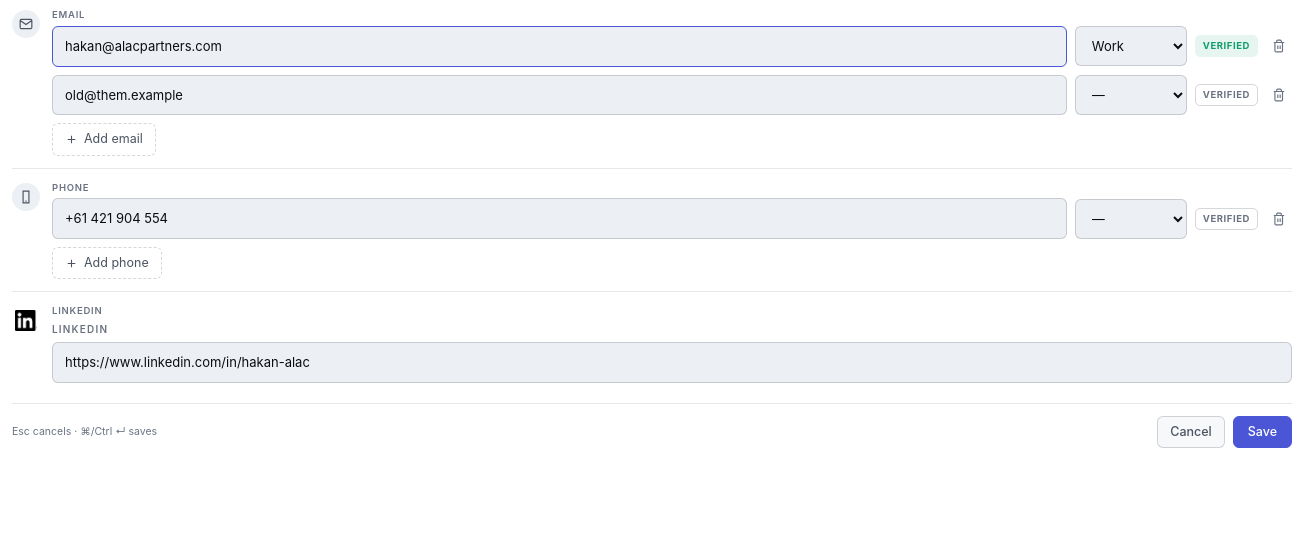
Scenario: ContactPanel › editing › refuses the same address twice before anything is sent
Click the button "Add email": (104,140) x1=52 y1=124 x2=156 y2=156
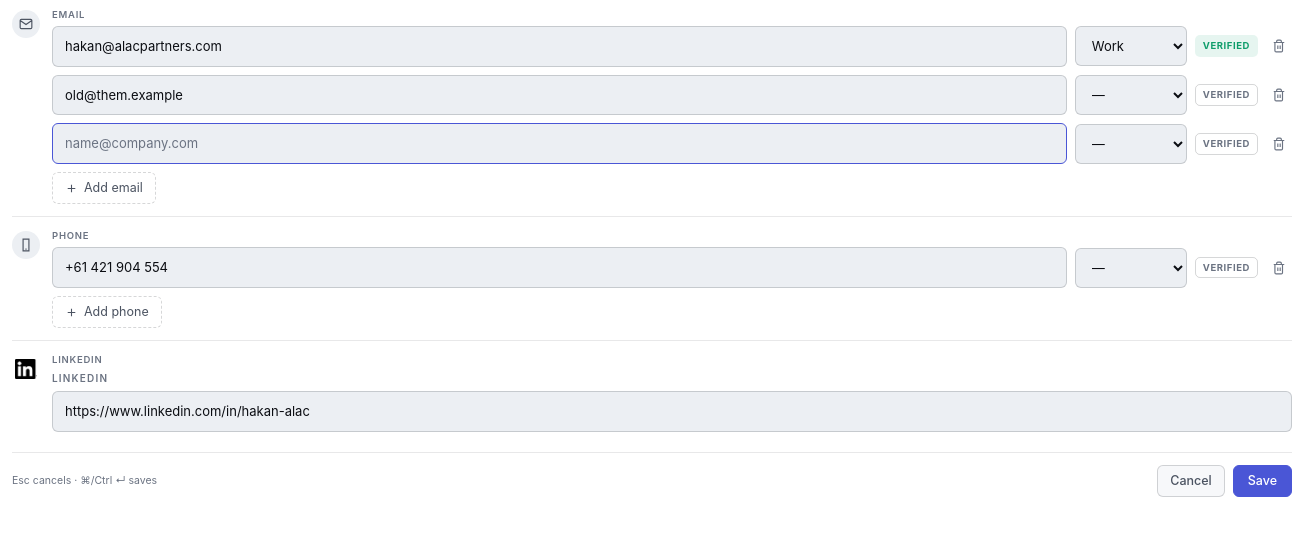
In the field named "Email 3": (559,144) x1=52 y1=124 x2=1067 y2=164, type "HAKAN@alacpartners.com"
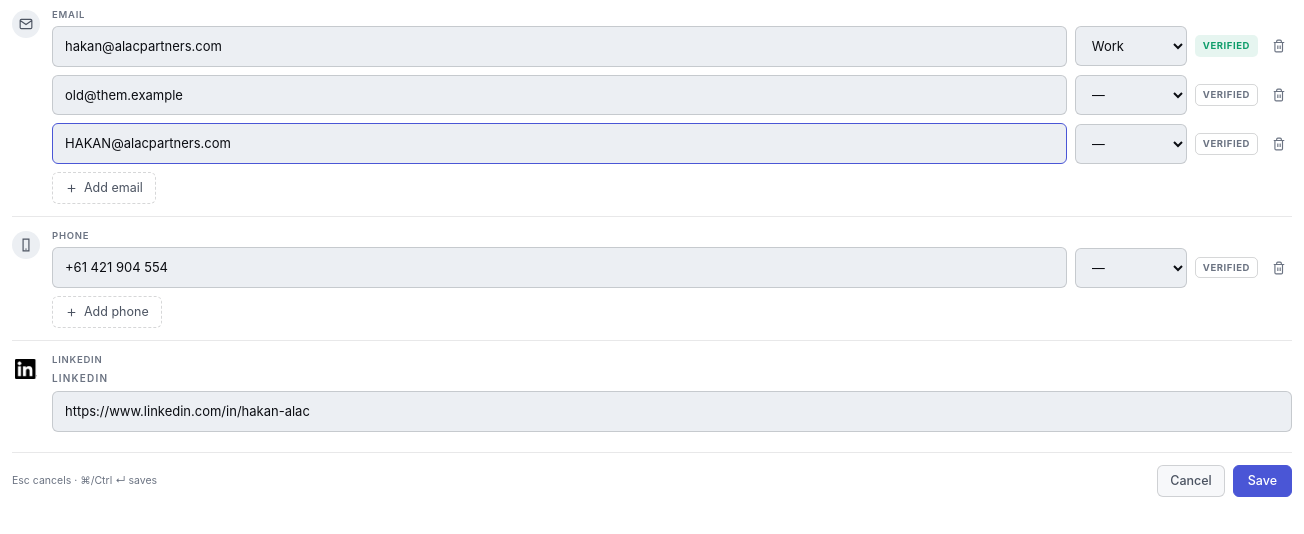
Click the button "Save": (1262,481) x1=1233 y1=465 x2=1292 y2=497
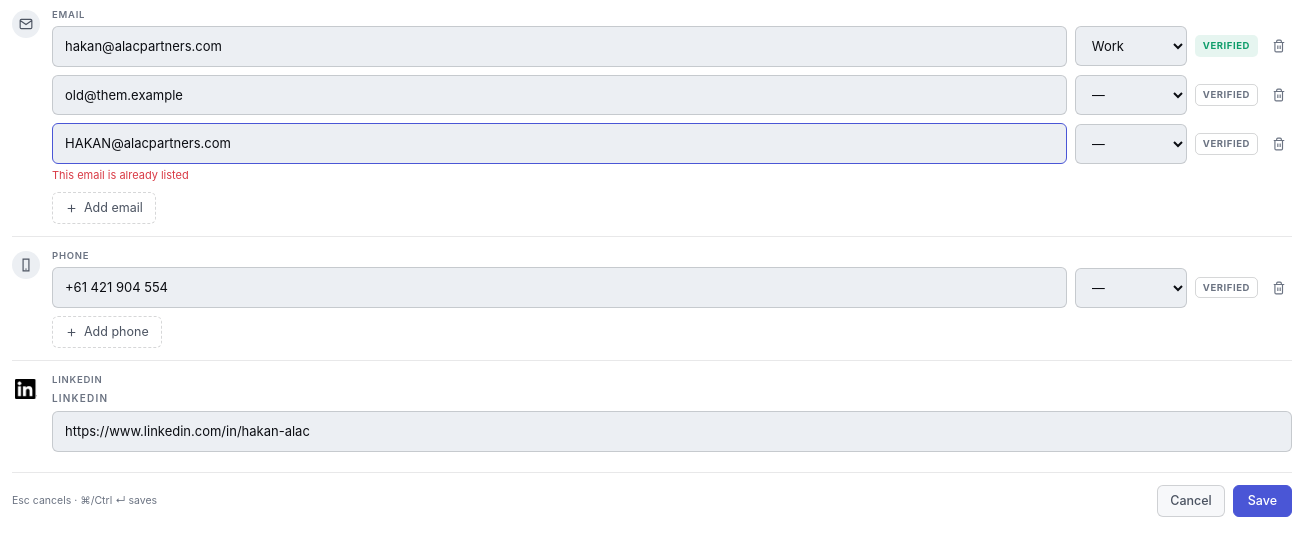
Result: the message reads "This email is already listed" at x1=52 y1=168 x2=189 y2=182
